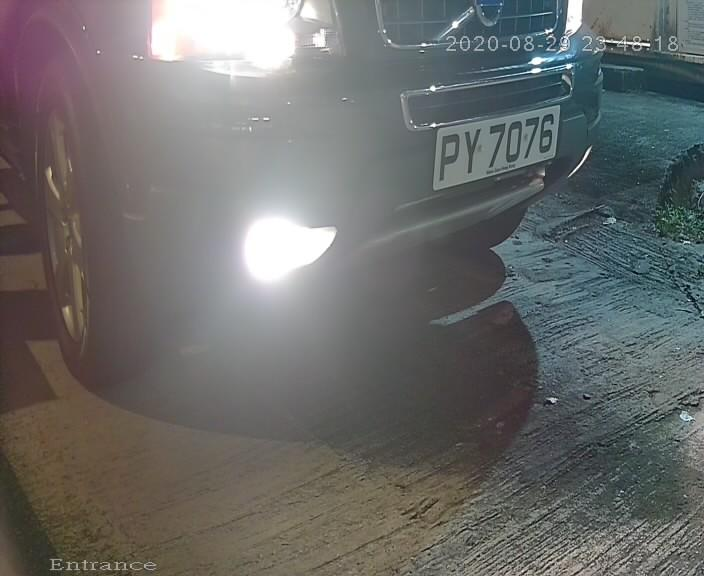License Plate: (428, 96, 560, 201)
